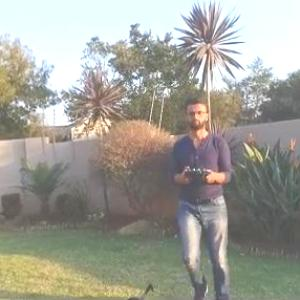follow: (165, 99, 235, 299)
